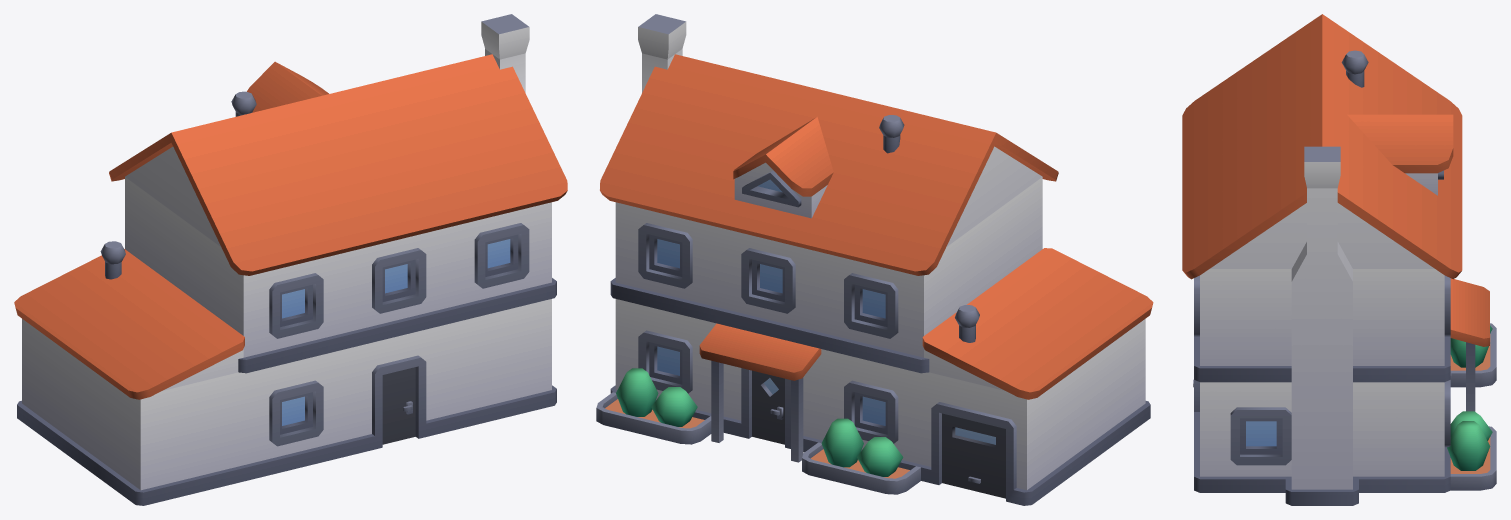
The model's file is house_suburb_d_warm.glb.
3 views of the same model, side by side, from view 1: azimuth 30°, elevation 25°; view 2: azimuth 150°, elevation 25°; view 3: azimuth 270°, elevation 25° (orthographic). The views are drawn at different scales.
Visible parts, largest first — view 1: building-type-d; view 2: building-type-d; view 3: building-type-d.
Boxes of the visible parts, left/top/right/bottom form: building-type-d: left=14, top=14, right=567, bottom=505; building-type-d: left=596, top=14, right=1153, bottom=505; building-type-d: left=1182, top=14, right=1496, bottom=505.
Size of the model in its own units: 1.76 by 1.24 by 1.03.
Materials: 1 (1 with a texture image).
